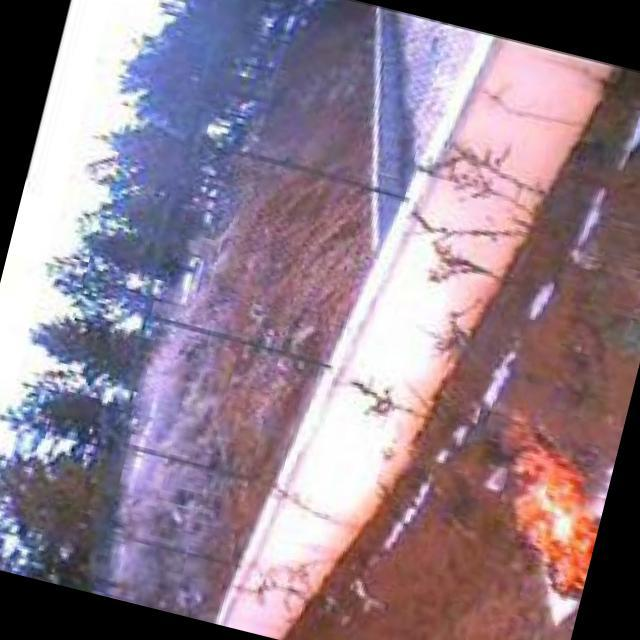Fire: (454, 401, 624, 603)
